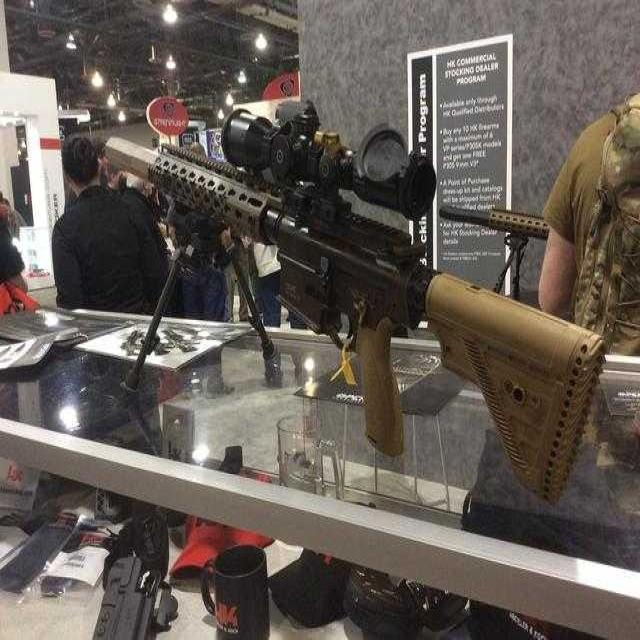heavyweapon: (85, 82, 611, 524)
